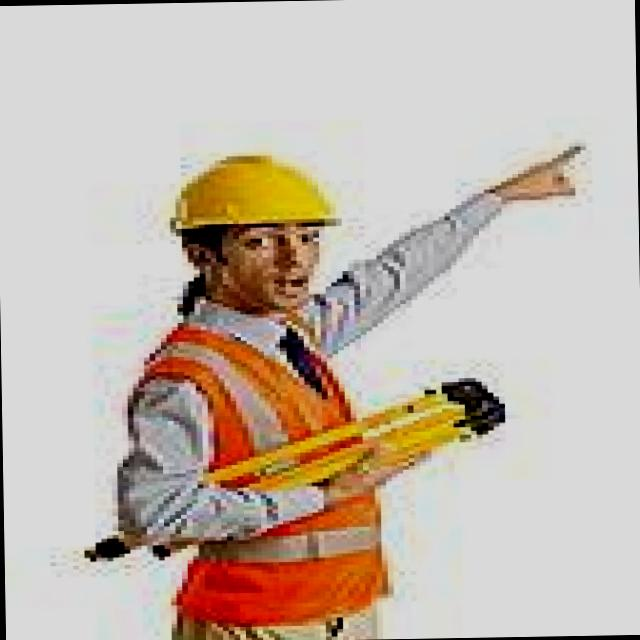helmet: (152, 162, 353, 232)
no-goggles: (182, 222, 348, 269)
vest: (114, 308, 405, 624)
